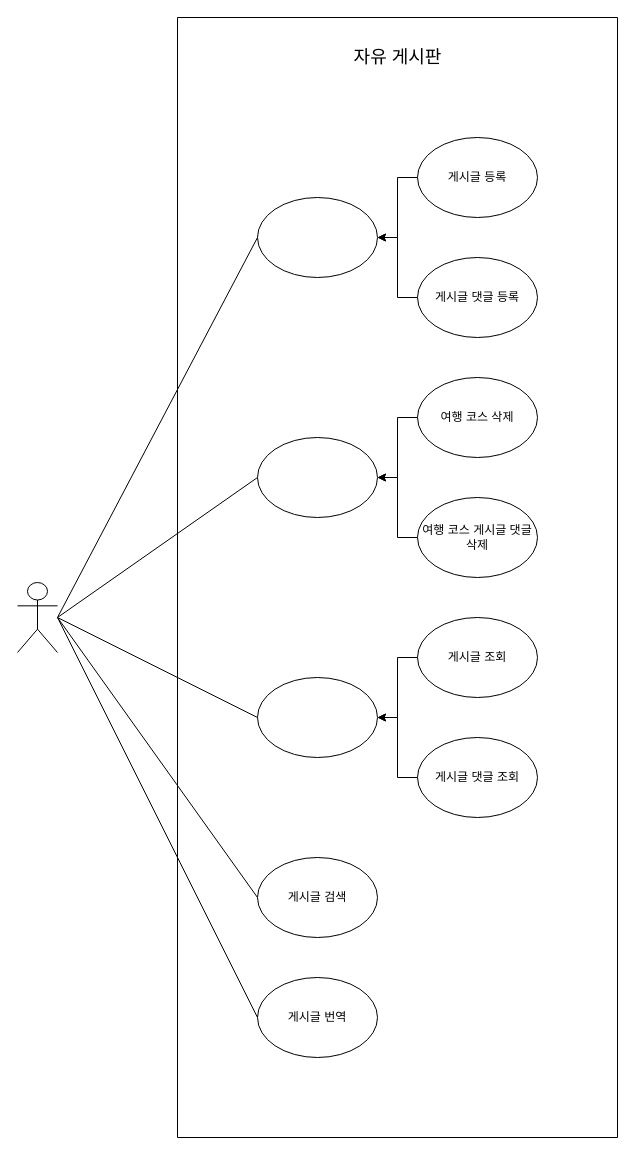
Image size: 635x1155. Some labels were removed from this diagram. The shapes that lost their labels are listed below. From the top down, each one's centre as x and y in pixels, then its label:
At point 317,237: "등록".
At point 317,477: "삭제".
At point 37,617: "사용자".
At point 317,717: "조회".
